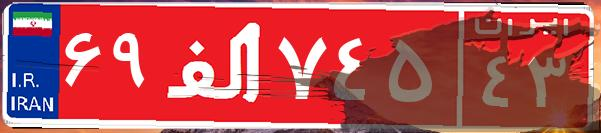3: (525, 38, 570, 115)
4: (330, 28, 385, 110), (475, 38, 525, 113)
5: (385, 28, 445, 110)
6: (57, 26, 110, 107)
7: (273, 28, 330, 110)
9: (110, 28, 158, 105)
الف: (158, 15, 273, 115)
